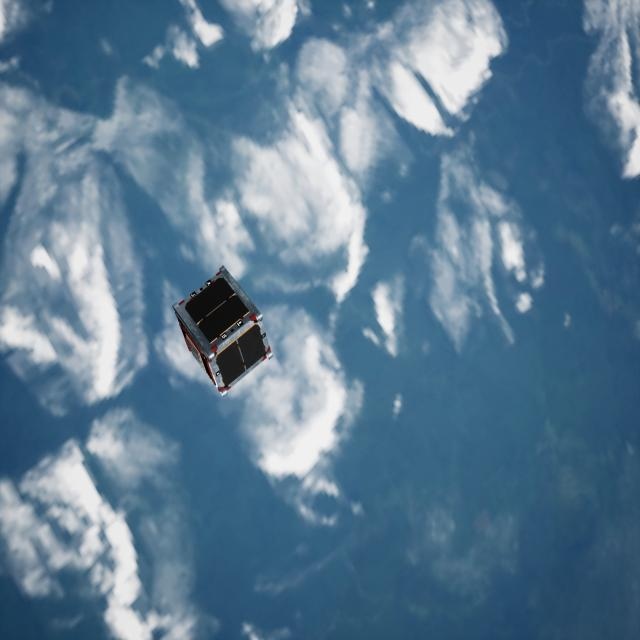medium_debris: (171, 264, 271, 391)
